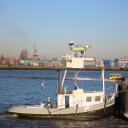tugboat: (8, 38, 121, 124)
